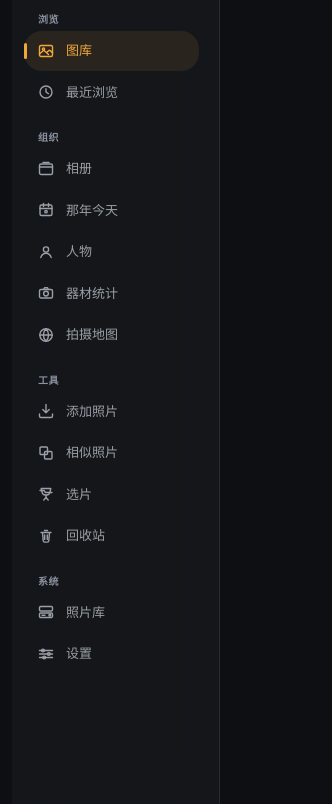
Scenario: Sidebar（M4.5 A3 分组信息架构） › M7 新入口：那年今天→/memories（浏览组）、器材统计→/gear（组织组）
This screenshot has width=332, height=804.
Click the link "那年今天" at (78, 210), box x1=38 y1=202 x2=118 y2=218
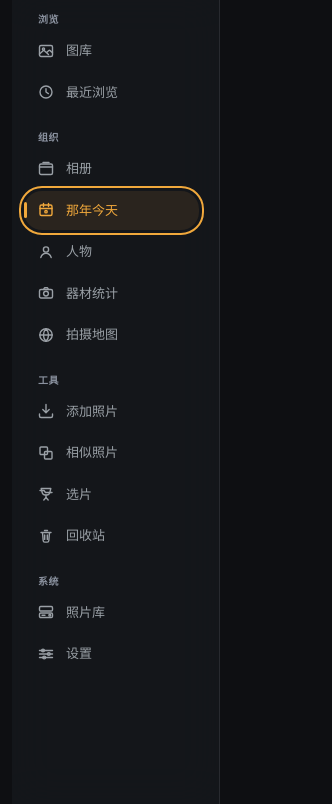
Click the link "器材统计" at (78, 293), box x1=38 y1=284 x2=118 y2=301
(page scrolled)
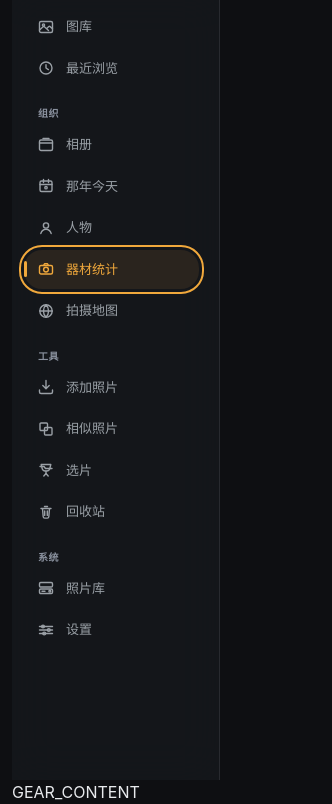
Result: the text "GEAR_CONTENT" is shown at x1=12 y1=782 x2=140 y2=802
